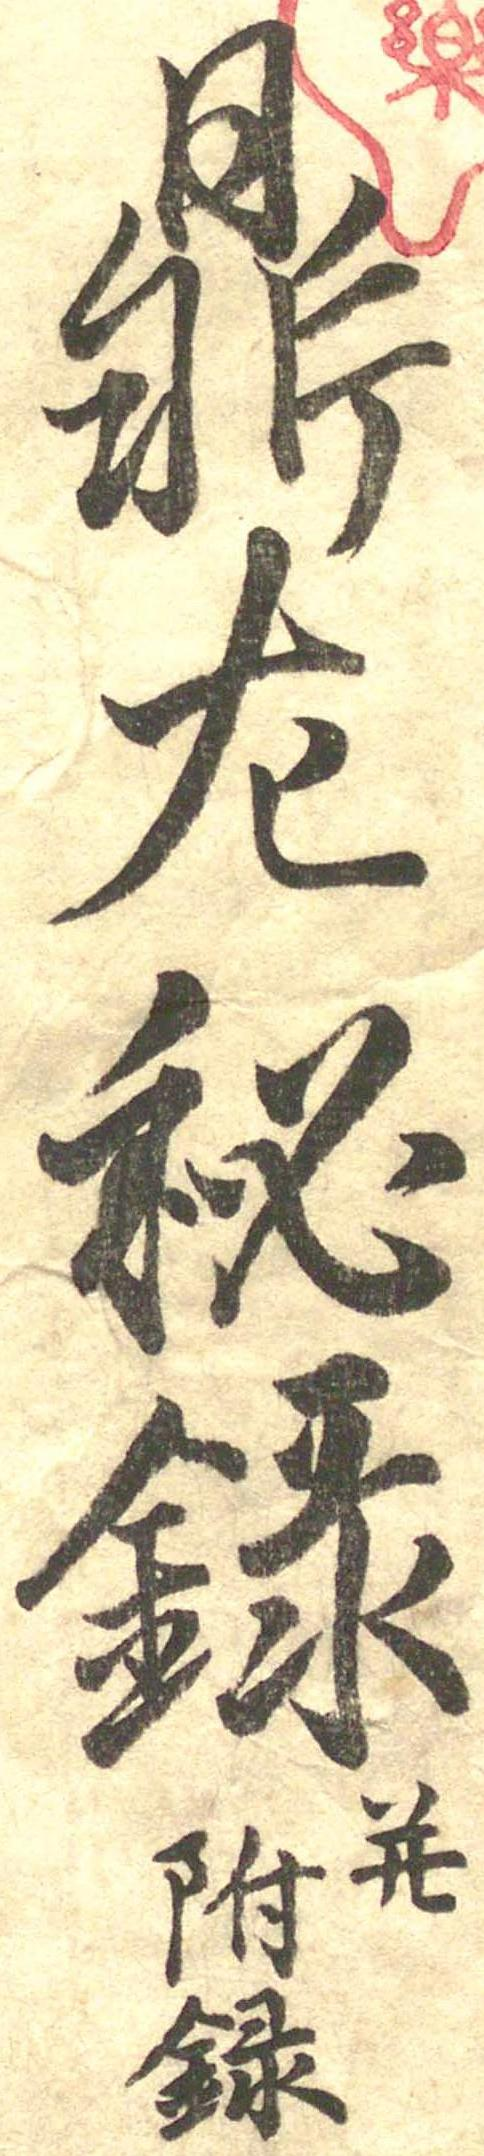char: (41, 15, 452, 557), (15, 1354, 469, 1770), (37, 969, 466, 1354), (49, 527, 428, 925), (125, 1987, 346, 2141), (153, 1825, 324, 1987)
